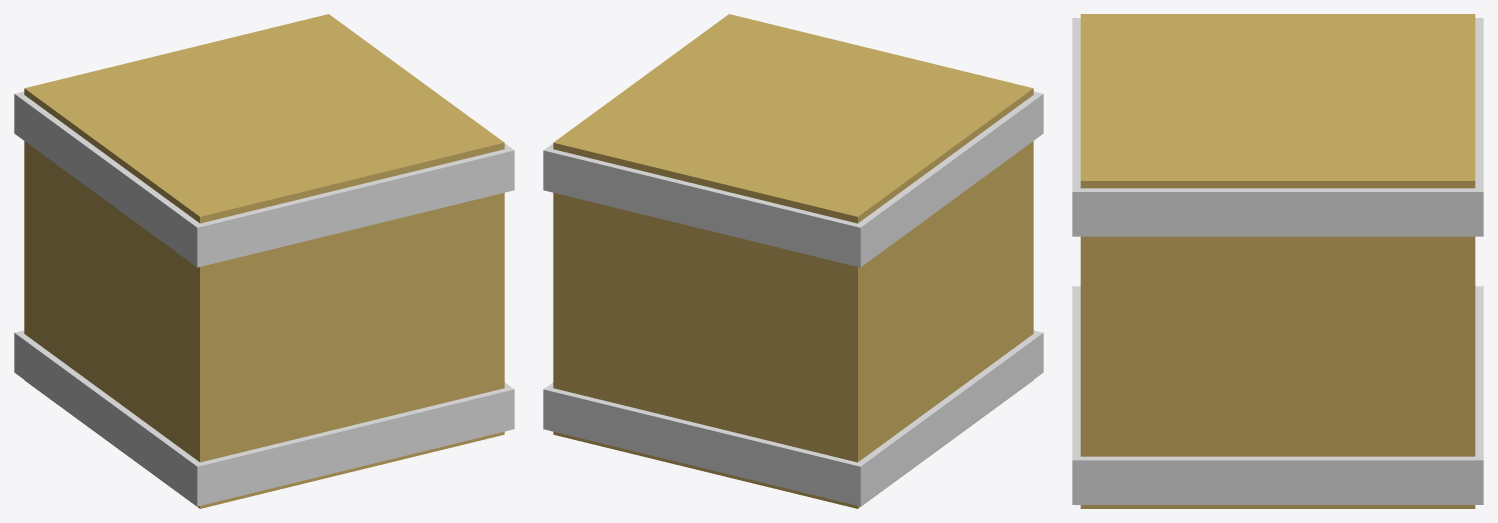
The model's file is golden_crate.glb.
3 views of the same model, side by side, from view 1: azimuth 30°, elevation 25°; view 2: azimuth 150°, elevation 25°; view 3: azimuth 270°, elevation 25° (orthographic). The views are drawn at different scales.
Visible parts, largest first — view 1: golden_crate_v0; view 2: golden_crate_v0; view 3: golden_crate_v0.
Part boxes in pixels (<box>): golden_crate_v0: <box>14,14,514,508</box>; golden_crate_v0: <box>543,14,1043,508</box>; golden_crate_v0: <box>1072,14,1483,508</box>.
Bounding box in the file's own units: 0.25 × 0.22 × 0.25.
